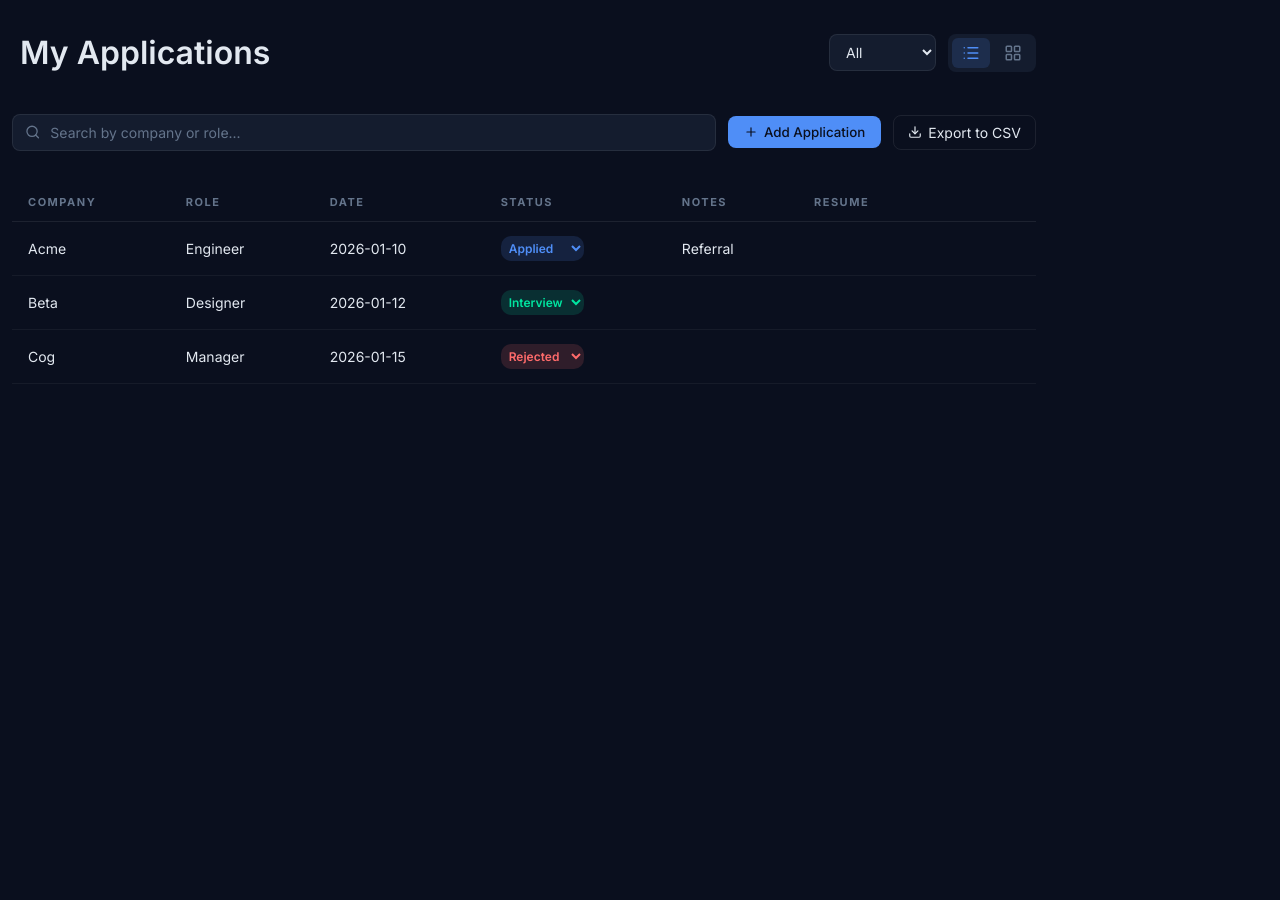
Scenario: Applied — Add form validation › shows required-field errors when submitting empty form
Click the button "Add Application".
click(805, 132)  # box [728,116,881,148]
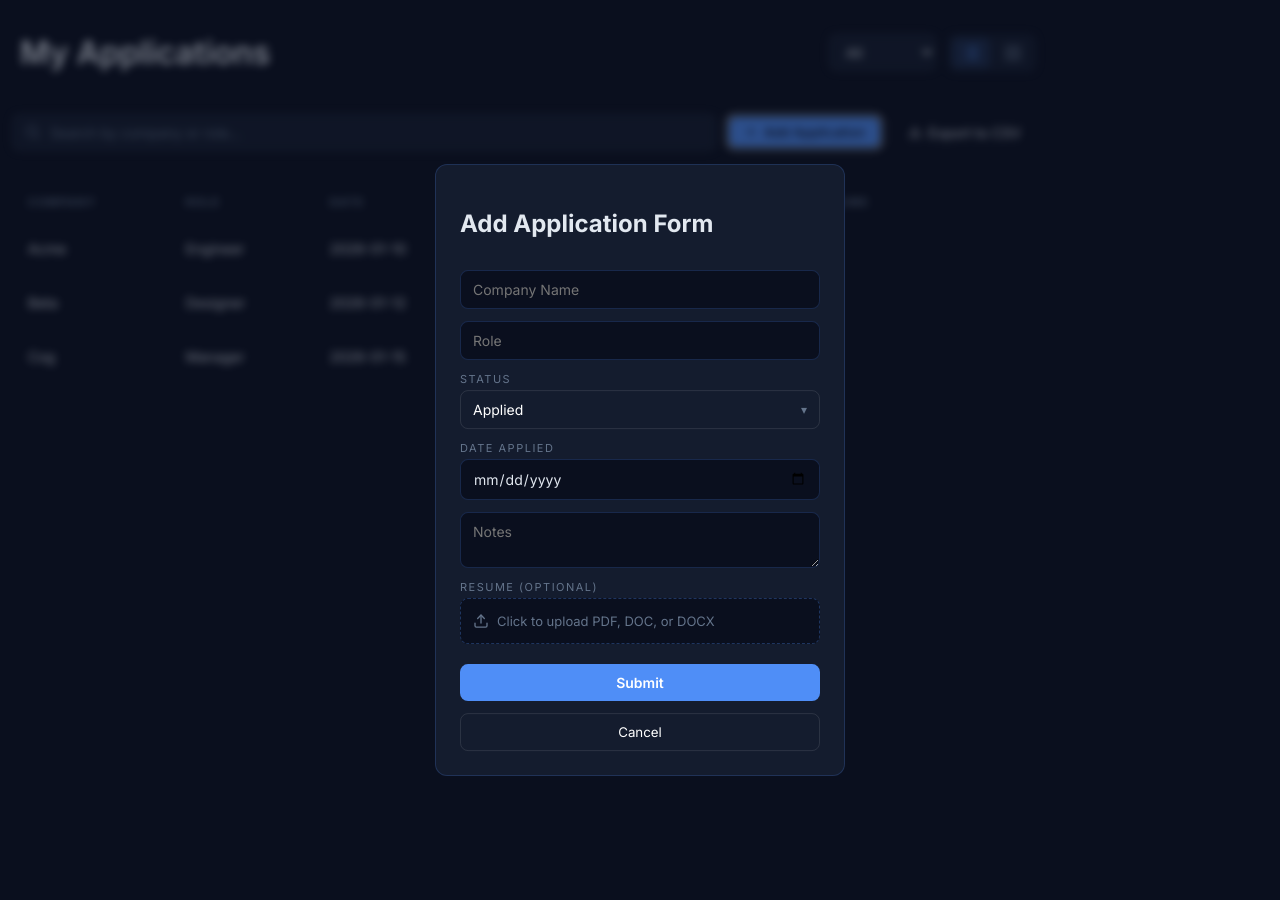
Click the button "Submit".
click(640, 682)  # box [460,664,820,701]
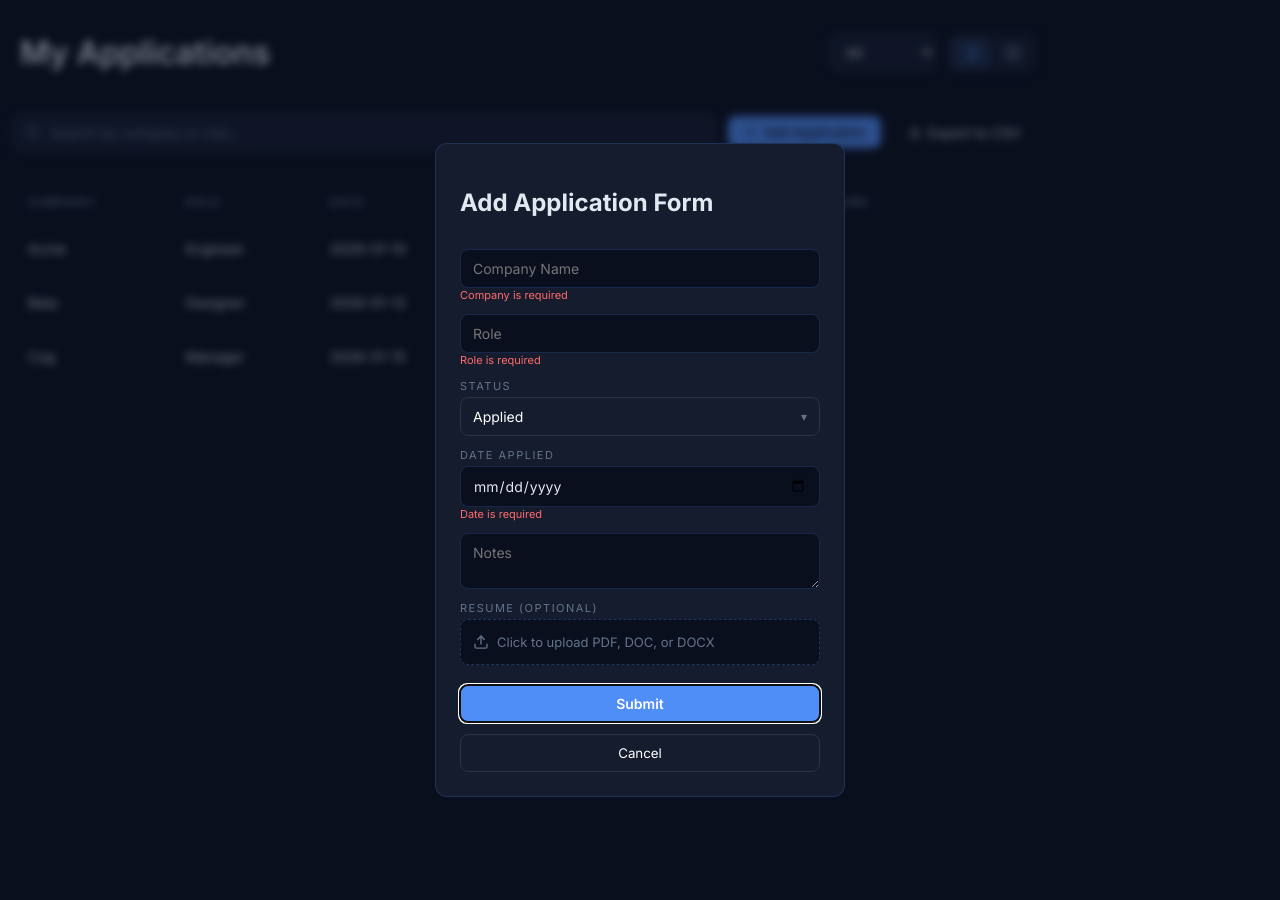
Result: the text "Company is required" is shown at [460,288,568,302]
Result: the text "Role is required" is shown at [460,353,541,367]
Result: the text "Date is required" is shown at [460,507,542,521]
